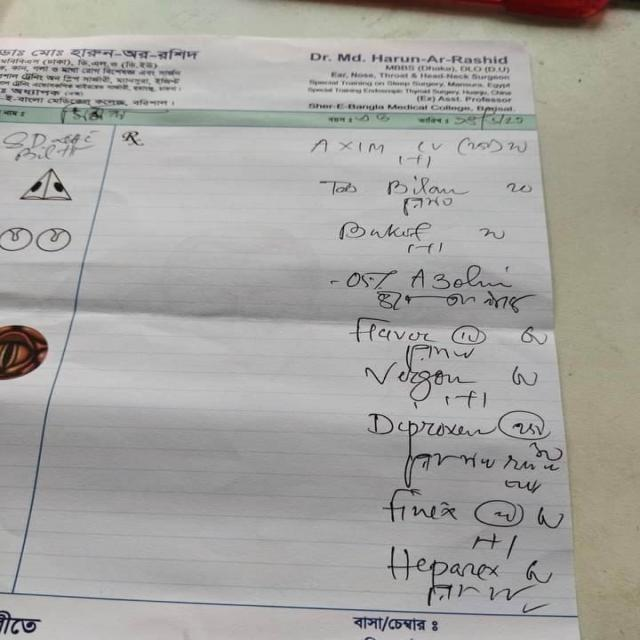Axim CV: (303, 134, 445, 158)
Azolin: (411, 262, 516, 293)
Bilan: (376, 169, 469, 195)
Bukof: (331, 218, 437, 242)
Deproxen: (353, 405, 485, 446)
Finix: (372, 484, 464, 527)
Fluver: (342, 313, 434, 347)
Hepavax: (370, 543, 517, 587)
Vergon: (356, 361, 470, 392)
